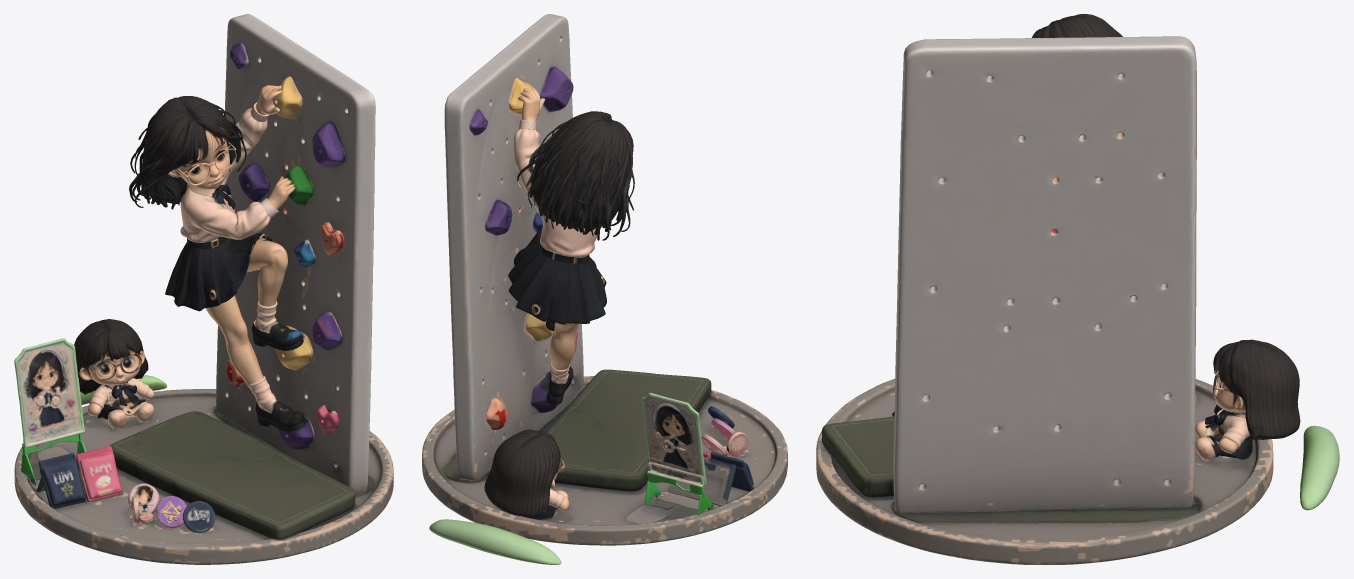
The picture shows the model from 3 angles, left to right: view 1: azimuth 30°, elevation 25°; view 2: azimuth 150°, elevation 25°; view 3: azimuth 270°, elevation 25°; orthographic projection. The views are drawn at different scales.
Visible parts, largest first — view 1: tripo_node_8ae61476-2853-41ea-8d77-7964033755cb; view 2: tripo_node_8ae61476-2853-41ea-8d77-7964033755cb; view 3: tripo_node_8ae61476-2853-41ea-8d77-7964033755cb.
Part boxes in pixels (x1=…): tripo_node_8ae61476-2853-41ea-8d77-7964033755cb: x1=14, y1=14, x2=393, y2=564; tripo_node_8ae61476-2853-41ea-8d77-7964033755cb: x1=422, y1=14, x2=787, y2=564; tripo_node_8ae61476-2853-41ea-8d77-7964033755cb: x1=816, y1=14, x2=1339, y2=564.
Bounding box in the file's own units: 0.8271 × 0.9802 × 0.9521.
1 material, 1 textured.
